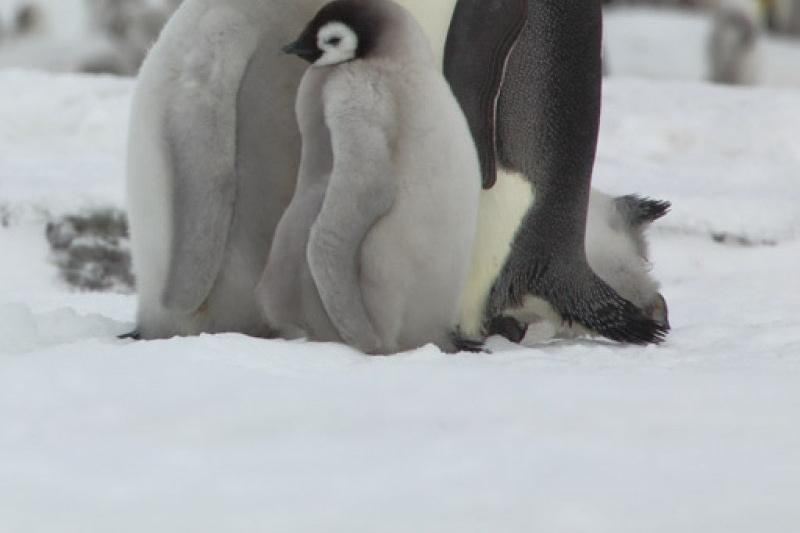Emperor Penguin: (305, 0, 715, 394)
